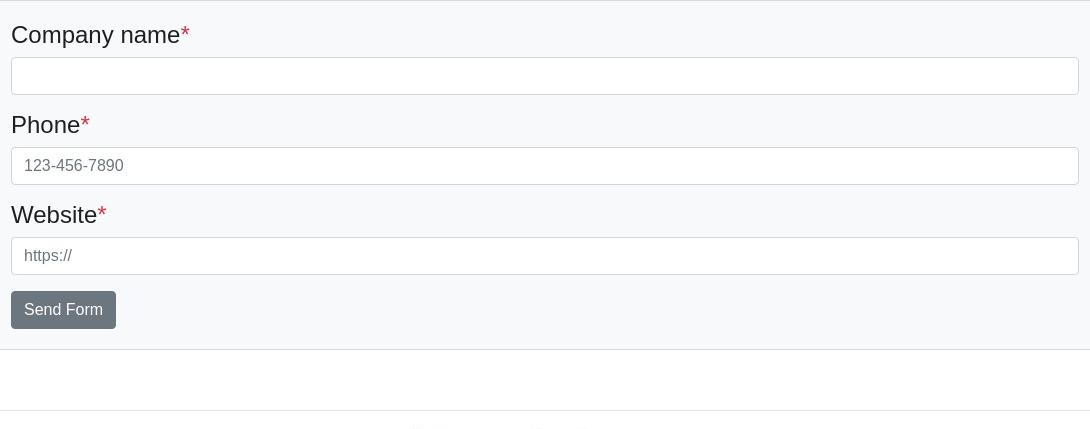button: (9, 288, 119, 331)
field: (4, 52, 1084, 98), (5, 233, 1080, 279), (5, 146, 1082, 188)
field_with_label: (0, 20, 1087, 102), (2, 202, 1083, 283), (1, 112, 1084, 190)
